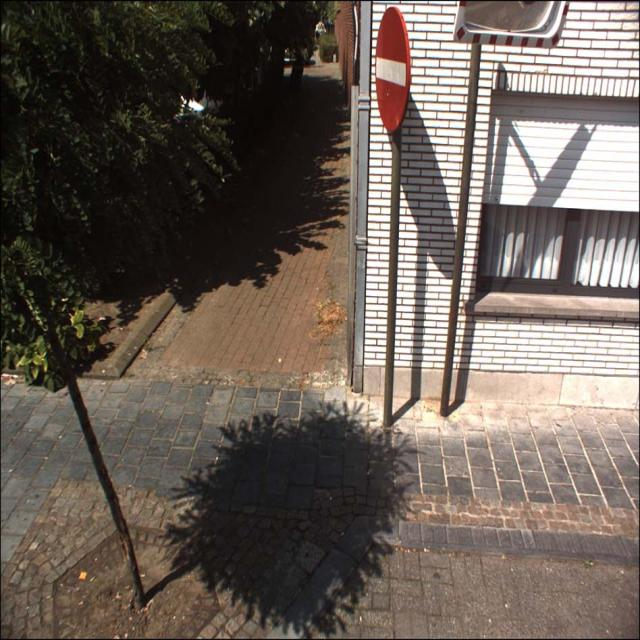girisyok: (376, 7, 410, 132)
